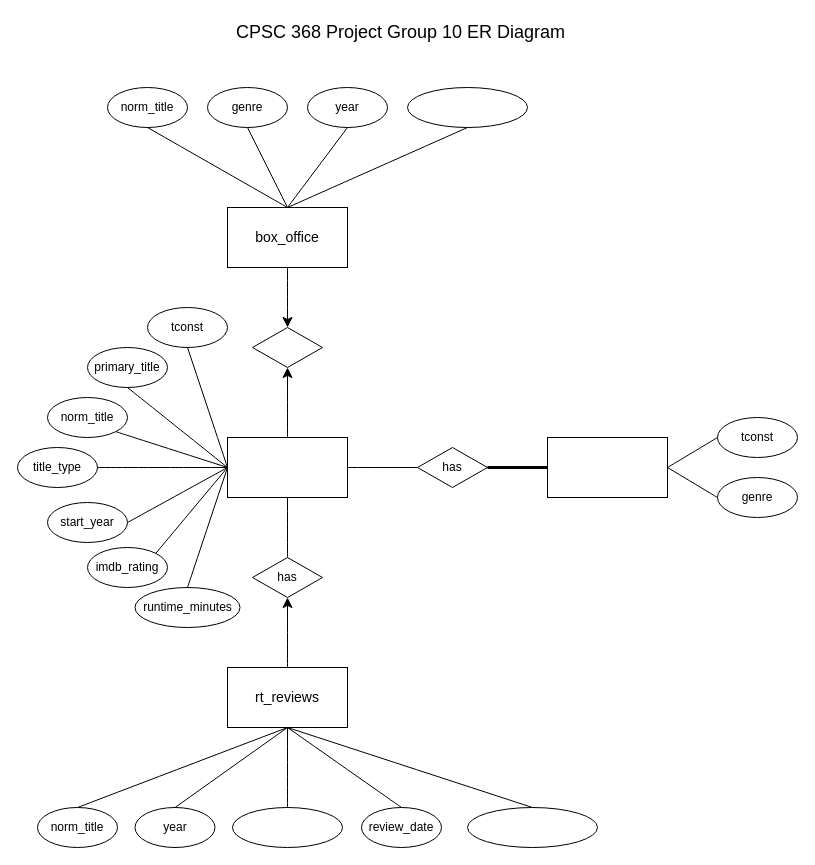
The diagram is 815 pixels wide and 865 high, and some of its shapes have lost their labels. Each missing label, with the centre of its shape:
"critics_concensus" goes at [287,827].
"movie_genres" goes at [607,467].
"movies" goes at [287,467].
"tomatormeter_rating" goes at [532,827].
"with" goes at [287,347].
"worldwide_revenue" goes at [467,107].
